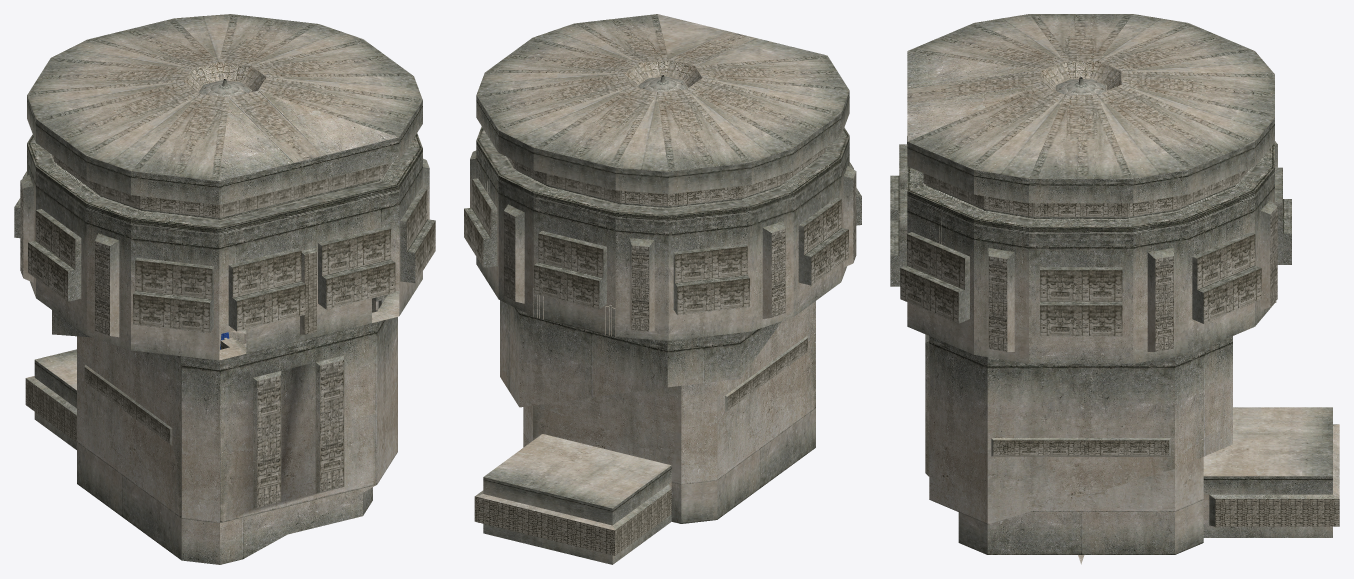
File: thm_yavn_temple_blueleaf_cluster_r2_hall1_mesh.fbx
The picture shows the model from 3 angles, left to right: view 1: azimuth 30°, elevation 25°; view 2: azimuth 150°, elevation 25°; view 3: azimuth 270°, elevation 25°; orthographic projection. The views are drawn at different scales.
Visible parts, largest first — view 1: mesh_node; view 2: mesh_node; view 3: mesh_node.
Boxes of the visible parts, x1,y1,x2,y2 form: mesh_node: (14,14,435,564); mesh_node: (464,14,861,564); mesh_node: (890,14,1339,564).
Bounding box in the file's own units: 62 × 79 × 66.07.
